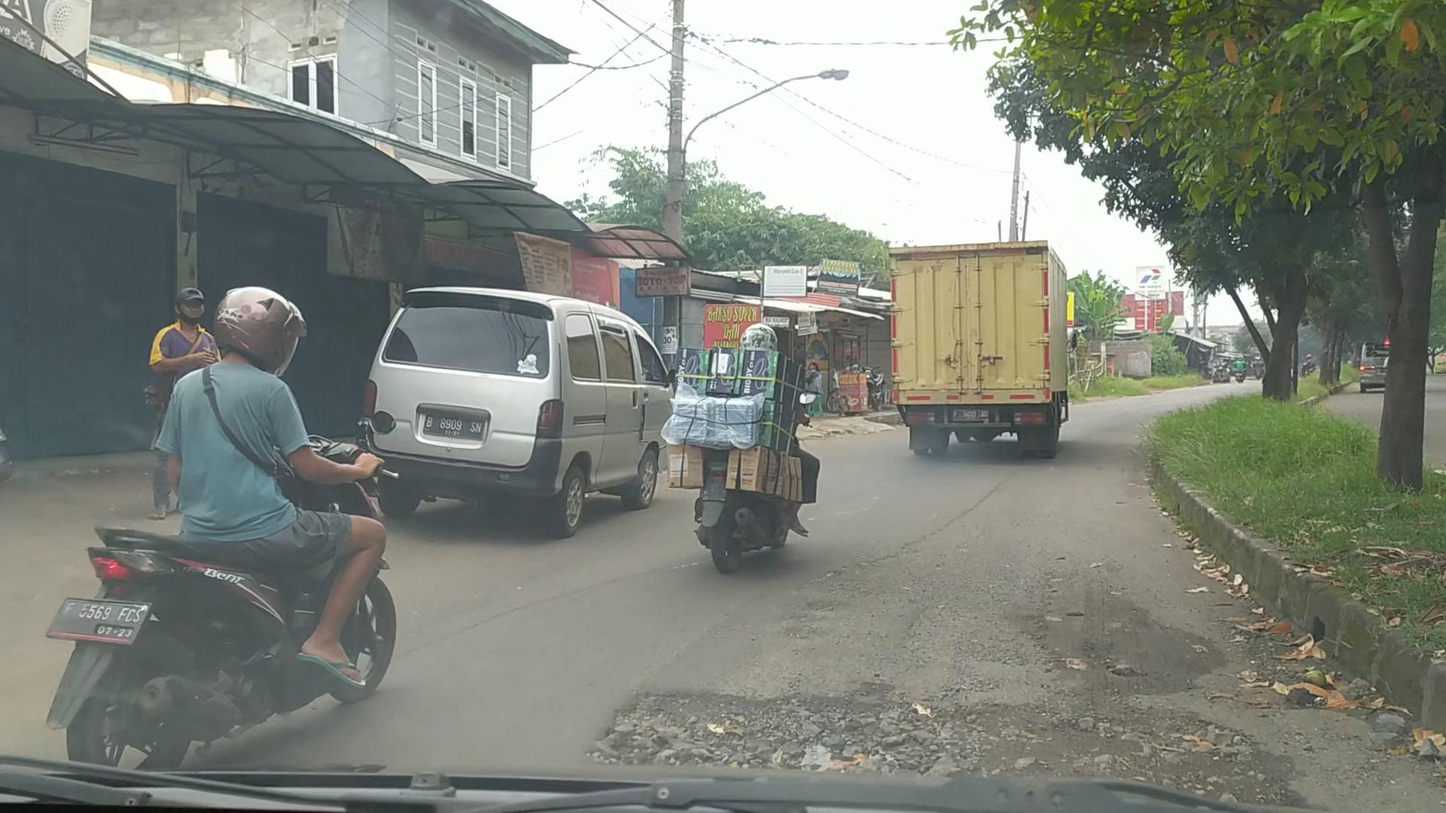pothole: (573, 676, 1320, 812)
